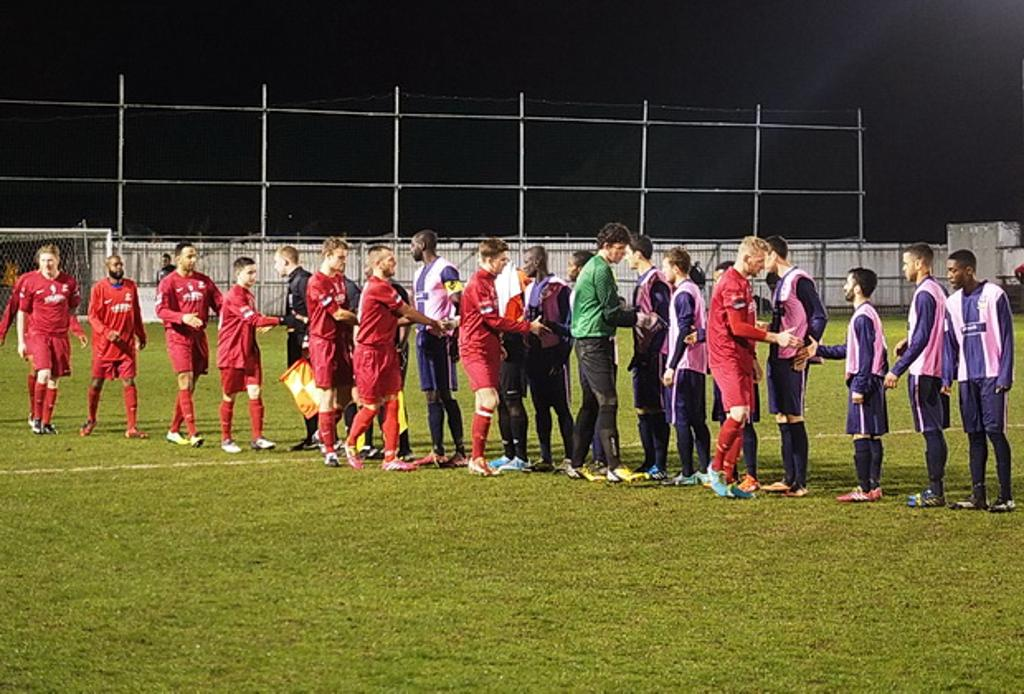face: (946, 260, 966, 288), (758, 246, 775, 273), (749, 249, 767, 274), (608, 238, 625, 263), (843, 273, 859, 298), (902, 253, 915, 282), (379, 252, 395, 274), (330, 248, 346, 270), (492, 250, 507, 273), (181, 247, 196, 269), (39, 254, 56, 273), (240, 265, 256, 284), (715, 270, 730, 290), (662, 257, 673, 281), (624, 244, 635, 268), (523, 253, 534, 277), (410, 236, 421, 258), (274, 252, 284, 276), (567, 255, 578, 276), (109, 257, 121, 274), (161, 257, 168, 266)
